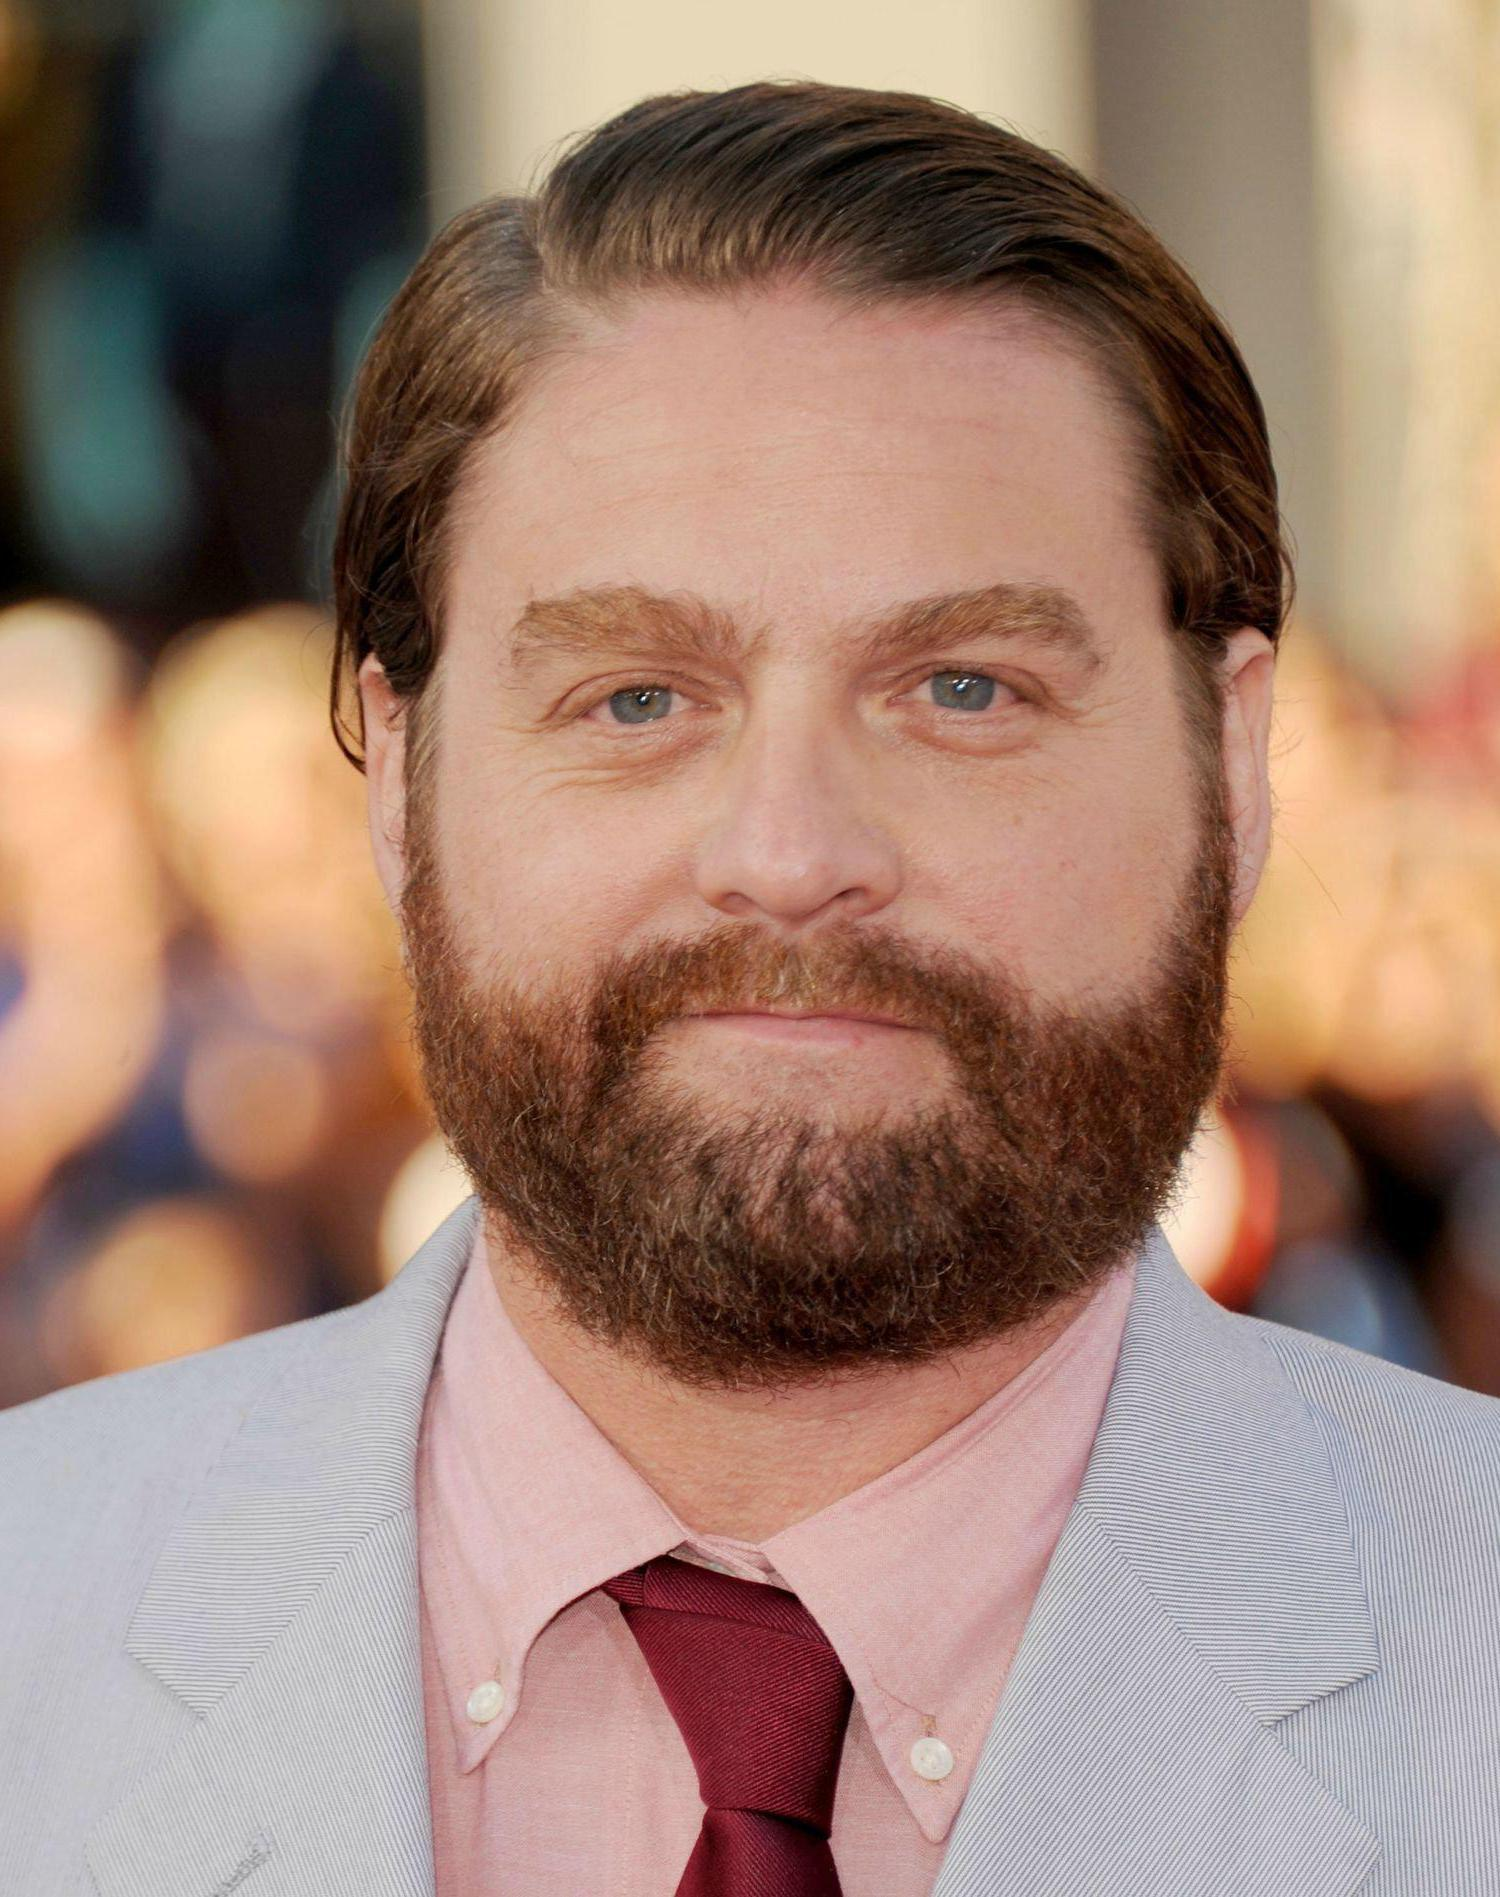Sober: (442, 326, 1192, 1275)
